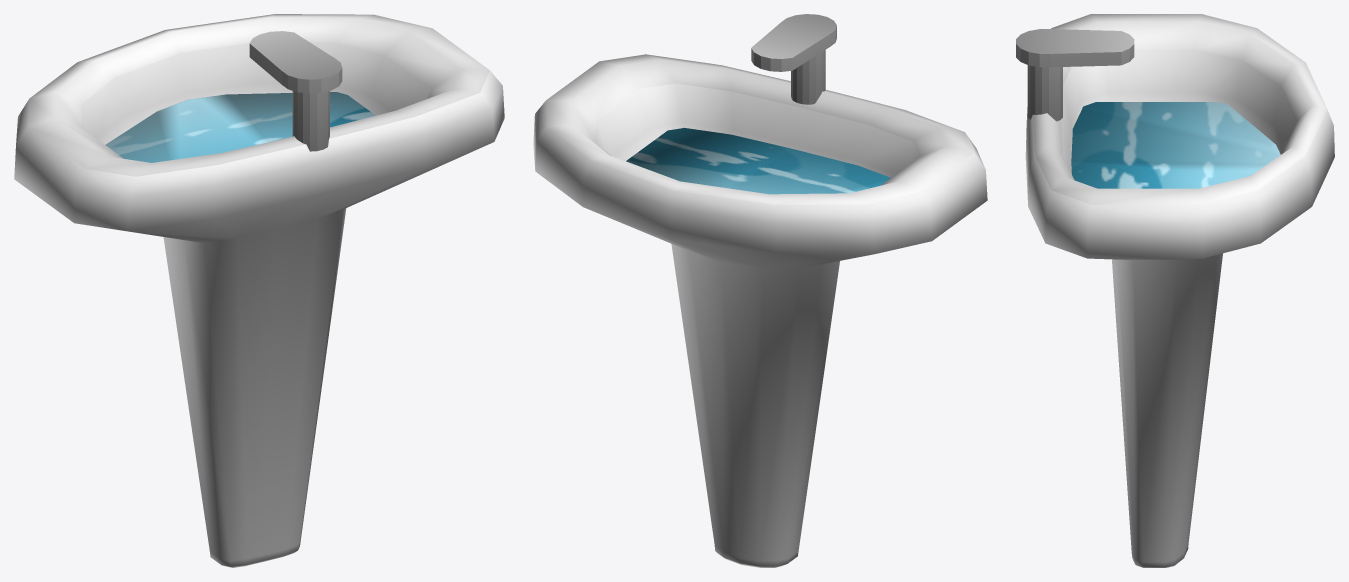
File: Props_Wastafel_01.fbx
The picture shows the model from 3 angles, left to right: view 1: azimuth 30°, elevation 25°; view 2: azimuth 150°, elevation 25°; view 3: azimuth 270°, elevation 25°; orthographic projection. The views are drawn at different scales.
Parts seen in each view (by area): view 1: Props_Wastafel_01; view 2: Props_Wastafel_01; view 3: Props_Wastafel_01.
Boxes of the visible parts, left/top/right/bottom form: Props_Wastafel_01: left=14, top=14, right=504, bottom=567; Props_Wastafel_01: left=533, top=14, right=987, bottom=567; Props_Wastafel_01: left=1016, top=14, right=1334, bottom=567.
Size of the model in its own units: 88.8 by 105 by 59.02.
